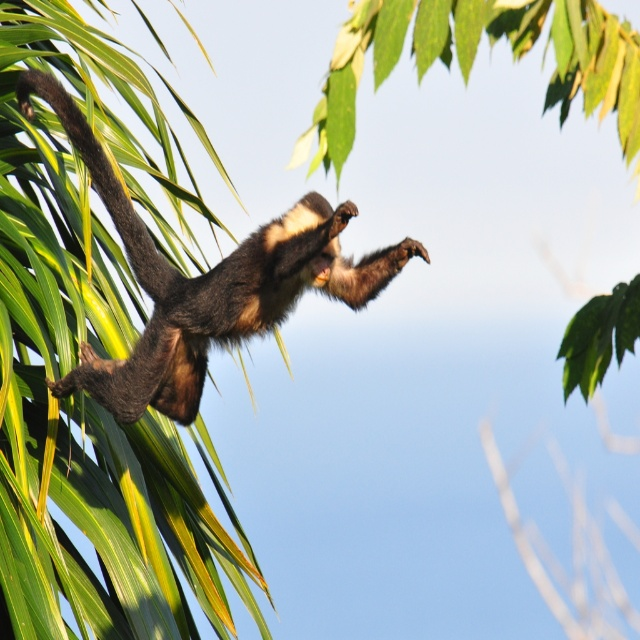Monkey: (12, 65, 430, 429)
